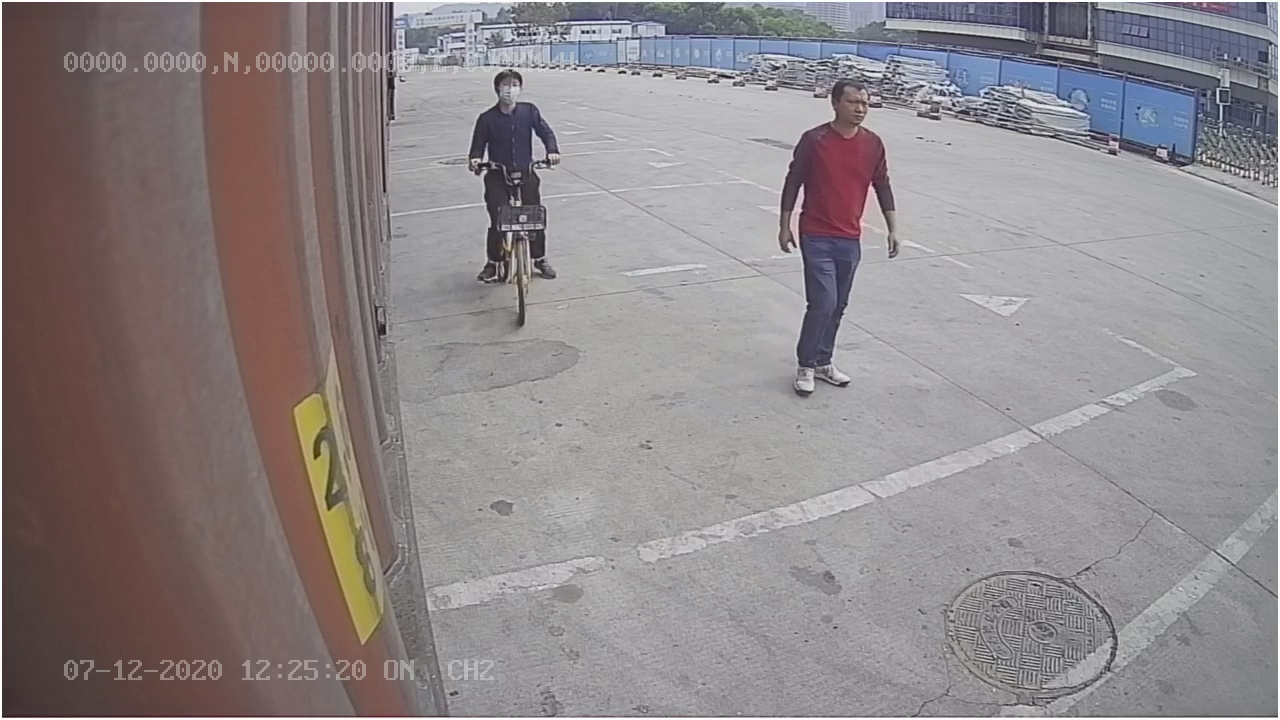person: (775, 75, 905, 402)
